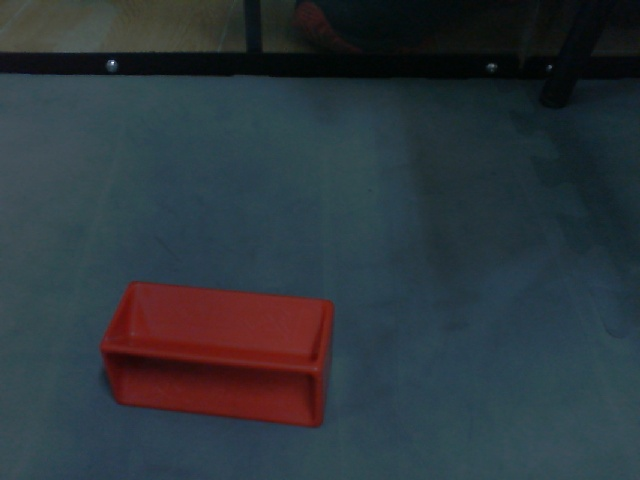RedSample: (97, 277, 337, 433)
